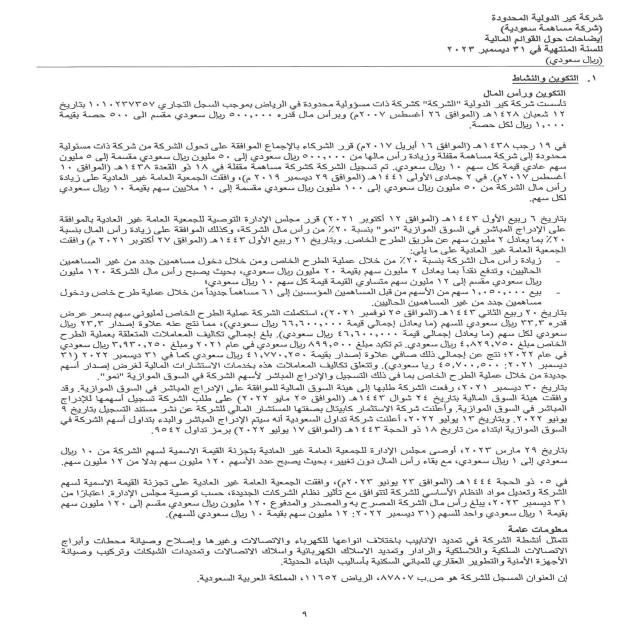notes: (479, 33, 612, 45)
text: (28, 69, 608, 589)
